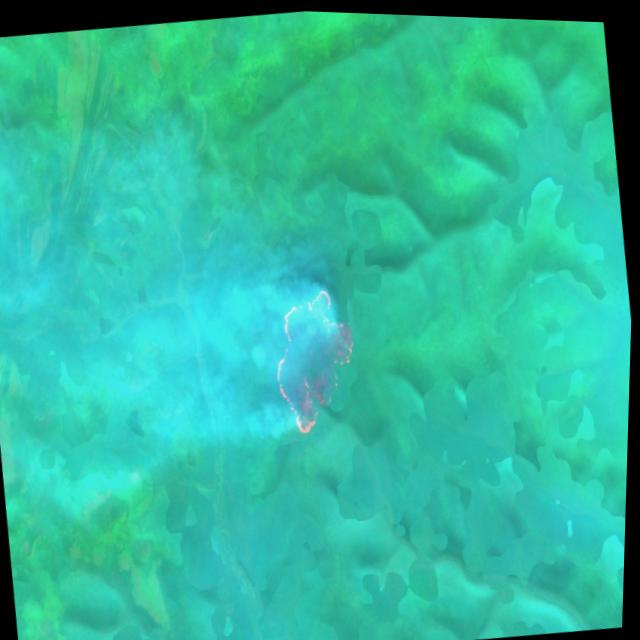fire: (262, 278, 369, 438)
